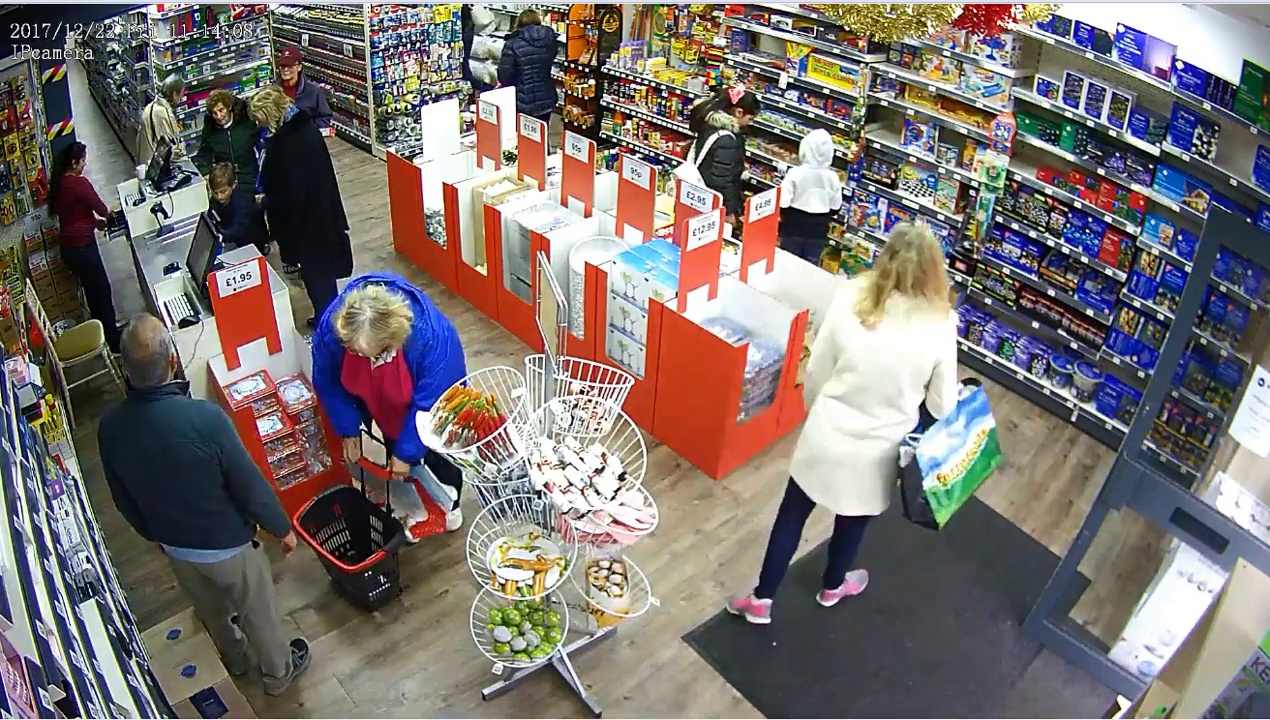face: (208, 173, 230, 207), (275, 55, 297, 82), (209, 99, 229, 125)
